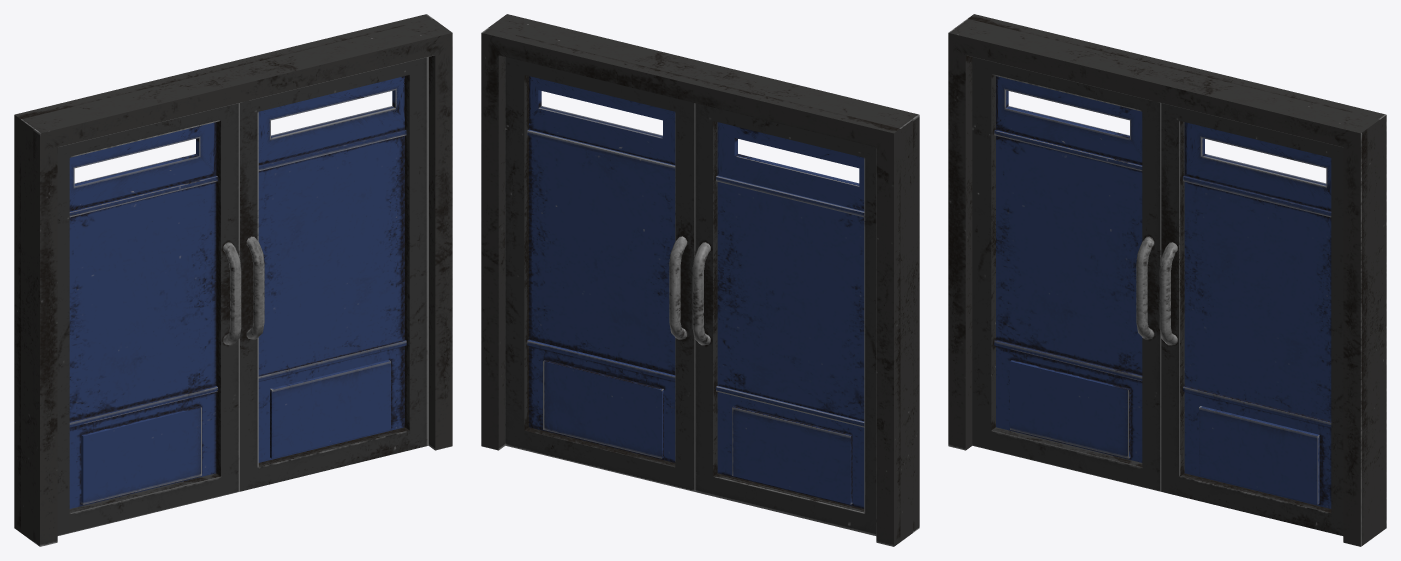
Rendered from door.fbx.
The picture shows the model from 3 angles, left to right: view 1: azimuth 30°, elevation 25°; view 2: azimuth 150°, elevation 25°; view 3: azimuth 330°, elevation 25°; orthographic projection.
Visible parts, largest first — view 1: Simetría, Simetría_6, Simetría_1; view 2: Simetría, Simetría_6, Simetría_1; view 3: Simetría_6, Simetría, Simetría_1.
Boxes of the visible parts, bbox=[...] form: Simetría: bbox=[239, 57, 428, 491]; Simetría_6: bbox=[57, 103, 241, 535]; Simetría_1: bbox=[14, 14, 452, 546]; Simetría: bbox=[505, 57, 694, 491]; Simetría_6: bbox=[692, 103, 876, 535]; Simetría_1: bbox=[481, 14, 919, 546]; Simetría_6: bbox=[972, 57, 1161, 491]; Simetría: bbox=[1159, 103, 1343, 535]; Simetría_1: bbox=[948, 14, 1386, 546].
Size of the model in its own units: 2.74 by 2.63 by 0.3849.
